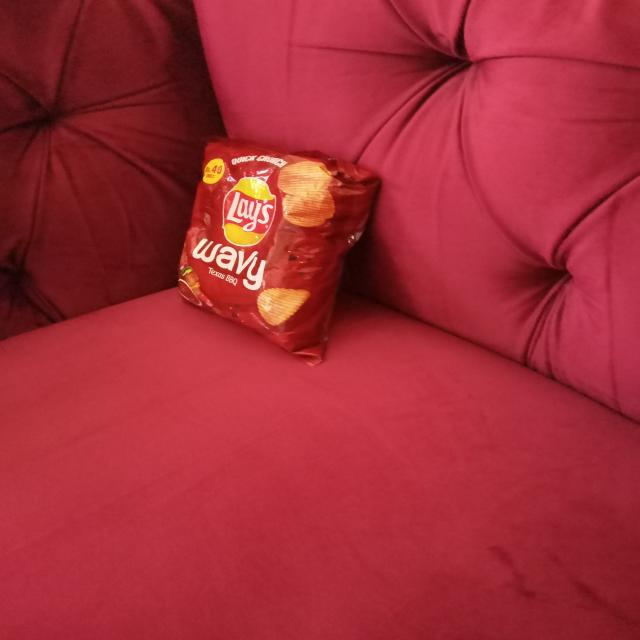Plastic: (182, 143, 386, 362)
